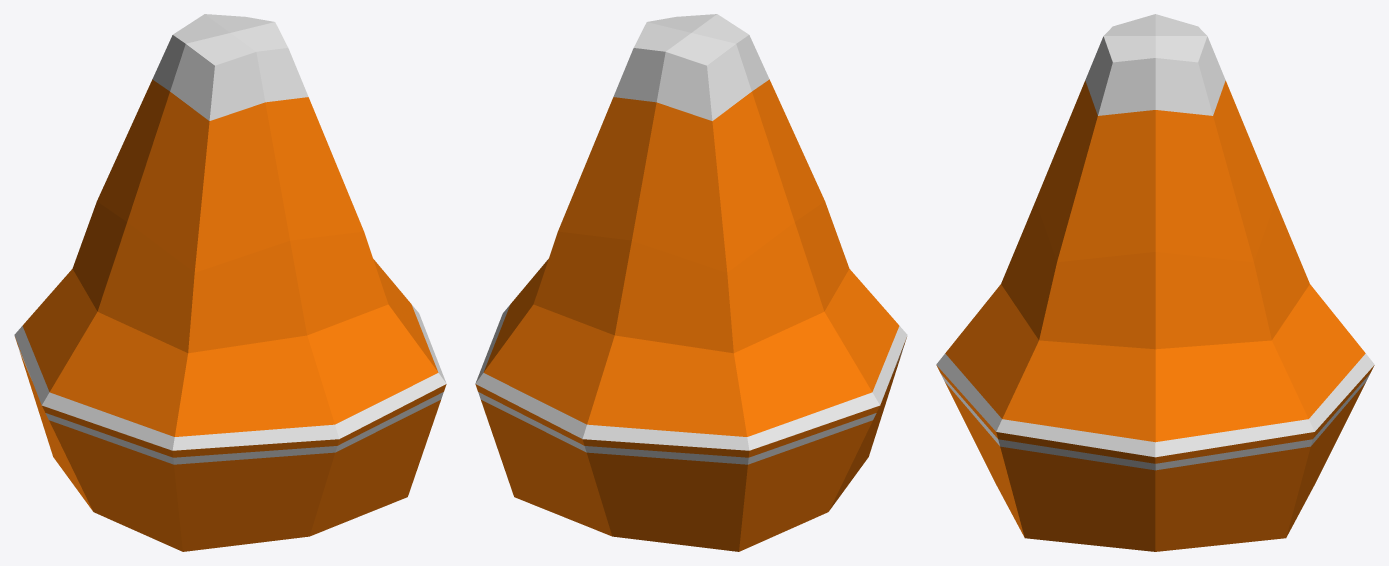
The model's file is luz naranja.fbx.
3 views of the same model, side by side, from view 1: azimuth 30°, elevation 25°; view 2: azimuth 150°, elevation 25°; view 3: azimuth 270°, elevation 25° (orthographic).
Visible parts, largest first — view 1: Cube; view 2: Cube; view 3: Cube.
Part boxes in pixels (box(x1,y1,x2,y2)): Cube: box(14, 14, 446, 551); Cube: box(475, 14, 907, 551); Cube: box(936, 14, 1374, 551).
Size of the model in its own units: 298 by 378 by 298.
